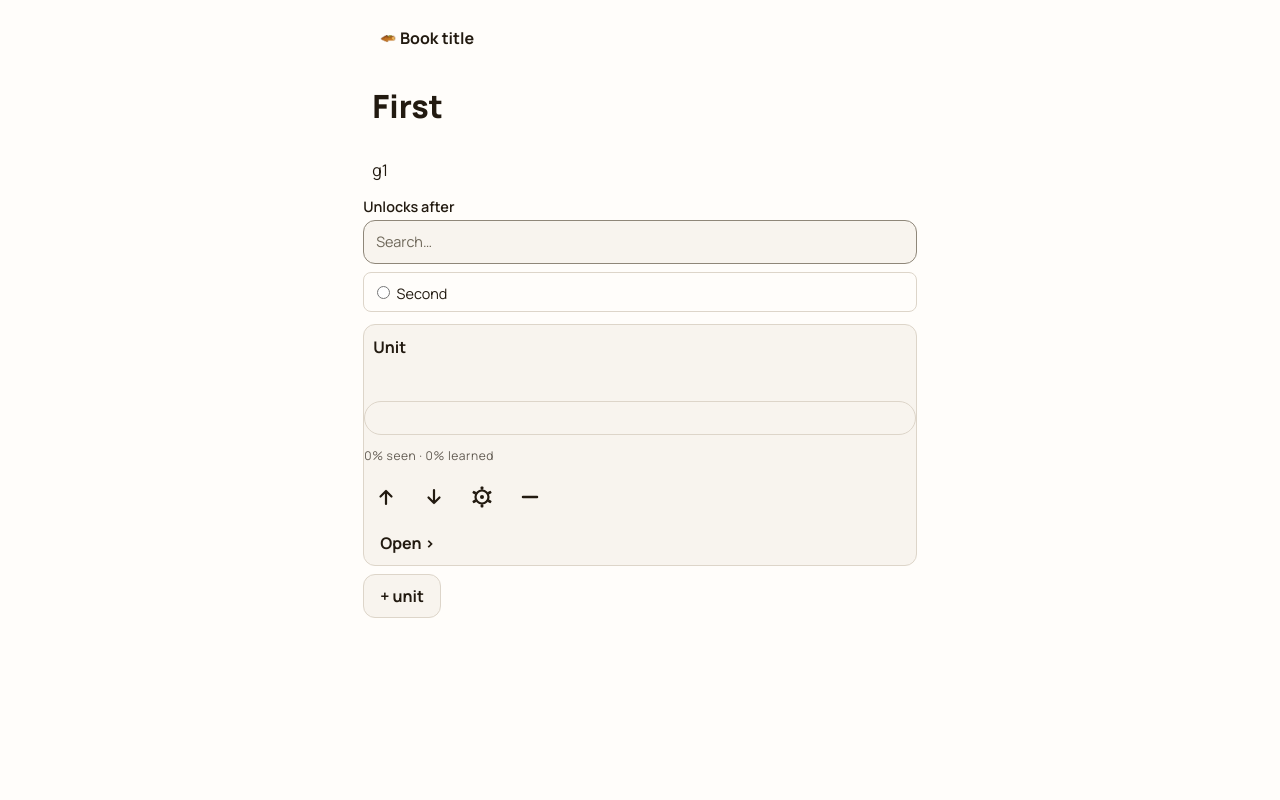
Test: LessonScreen › opens a unit's own settings sheet with Unlocks after
Click the button named "Unit settings" at [482, 500], box [460, 478, 504, 522]
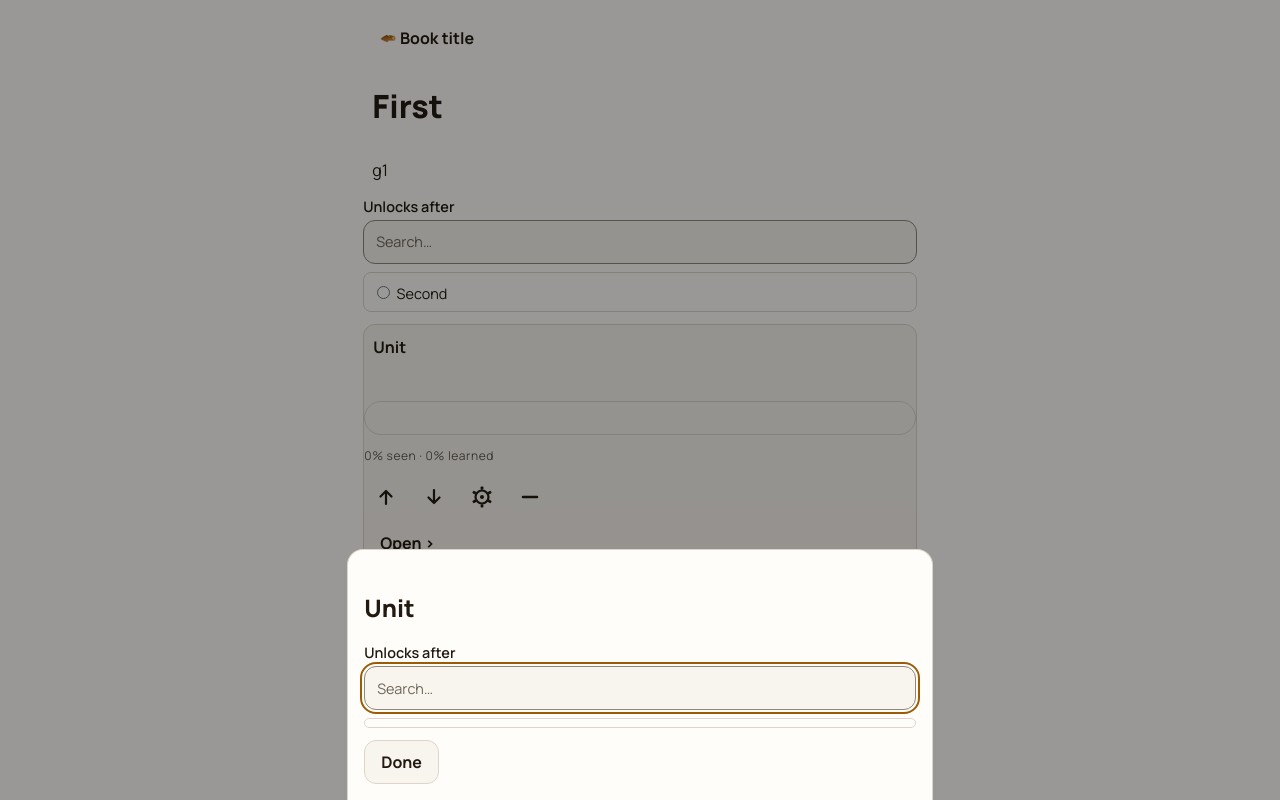
expect the text "Unlocks after" is shown: met, box [364, 643, 456, 662]
